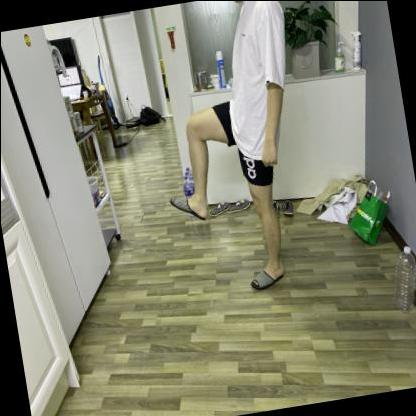no_safety-shoe: (163, 181, 221, 232), (242, 254, 291, 296)
